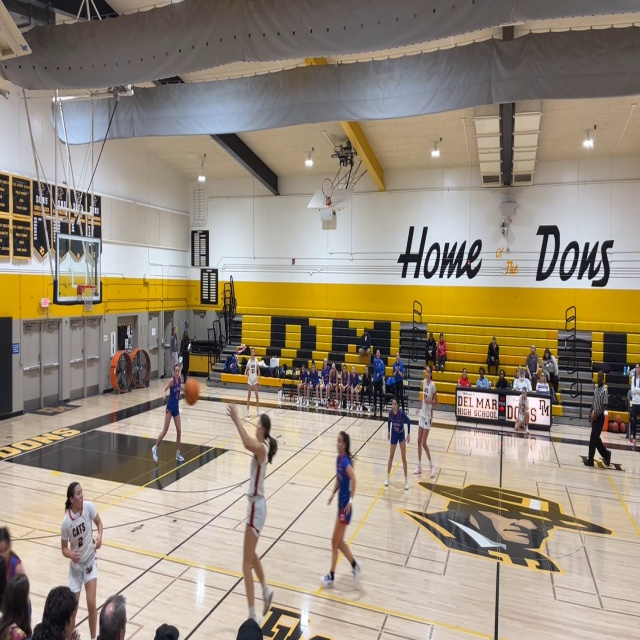Basketball: (184, 378, 200, 405)
